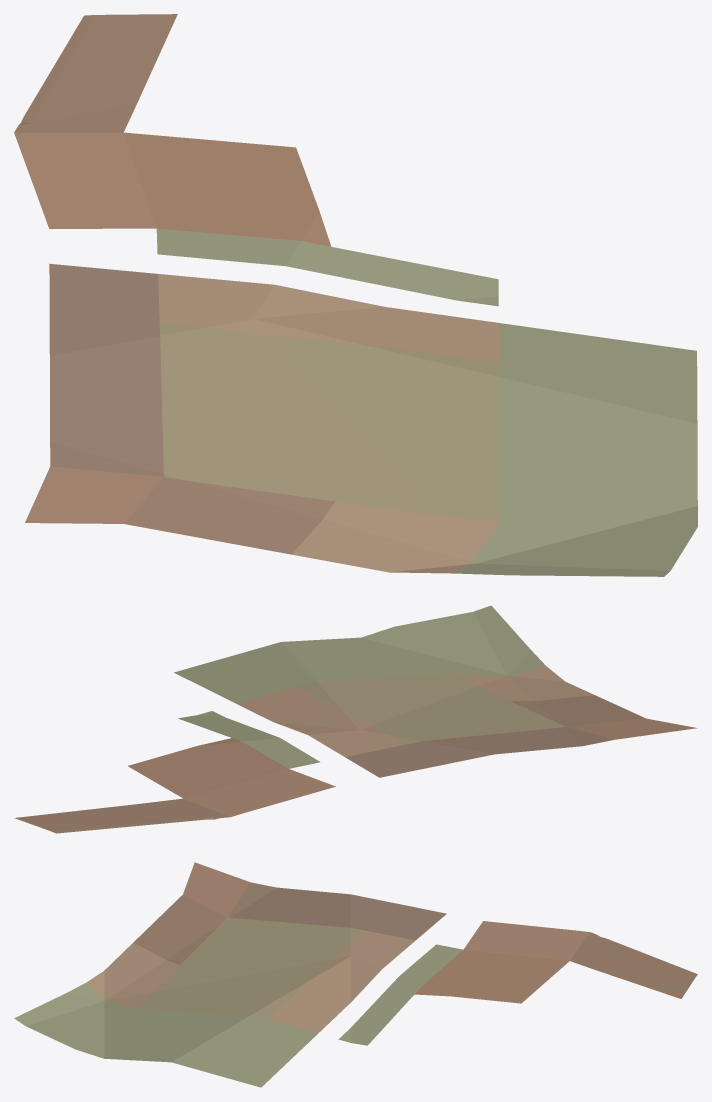
File: farm_17_26_soil.glb
3 renders of one model, top to bottom at view 1: azimuth 30°, elevation 25°; view 2: azimuth 150°, elevation 25°; view 3: azimuth 270°, elevation 25°, orthographic. The views are drawn at different scales.
Visible parts, largest first — view 1: geometry_0; view 2: geometry_0; view 3: geometry_0.
Boxes of the visible parts, <box> form: geometry_0: <box>14,14,697,576</box>; geometry_0: <box>14,605,697,833</box>; geometry_0: <box>14,862,697,1087</box>.
Size of the model in its own units: 152 by 23.6 by 222.
